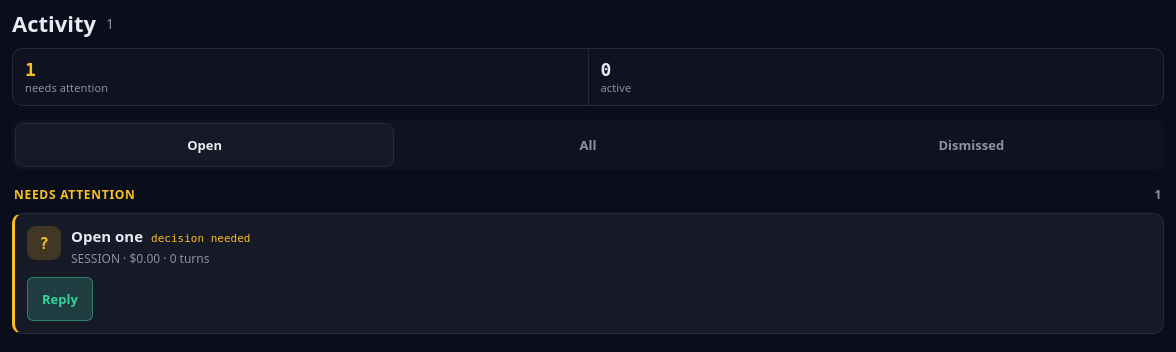
Test: ActivityScreen › filters to dismissed sessions when the Dismissed tab is selected
expect the text "Dismissed one" is not shown: met
Click the tab "Dismissed" at [971, 145], box x1=782 y1=123 x2=1161 y2=167
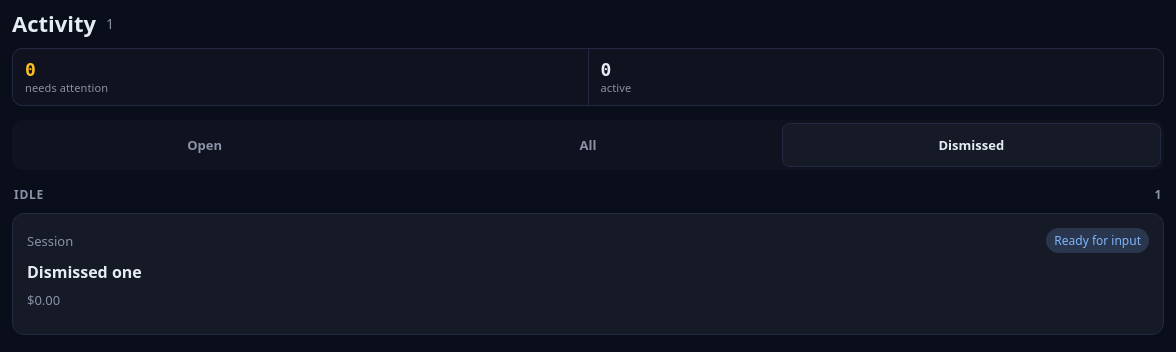
expect the text "Dismissed one" is shown: met, box x1=27 y1=261 x2=142 y2=283
expect the button "Open one" is gone: met
